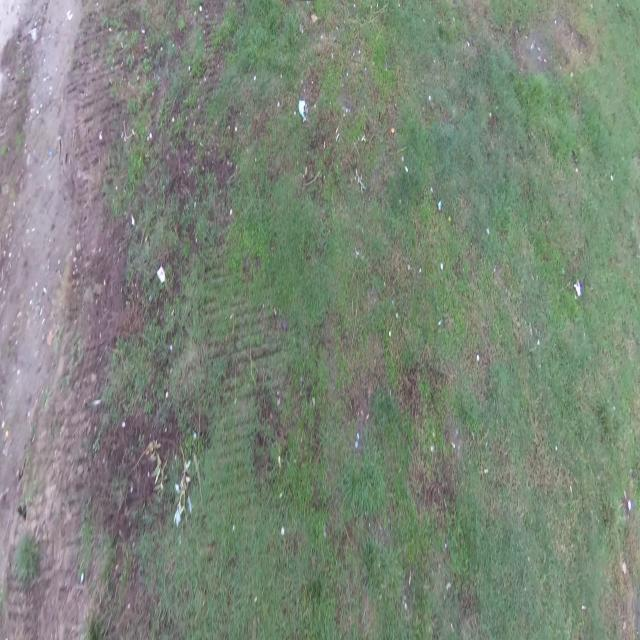rubbish: (298, 98, 307, 119), (156, 263, 164, 281)
